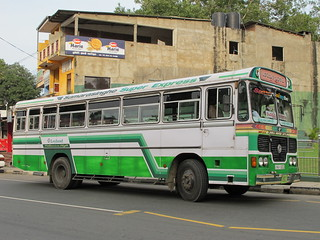bus: (12, 66, 301, 203)
